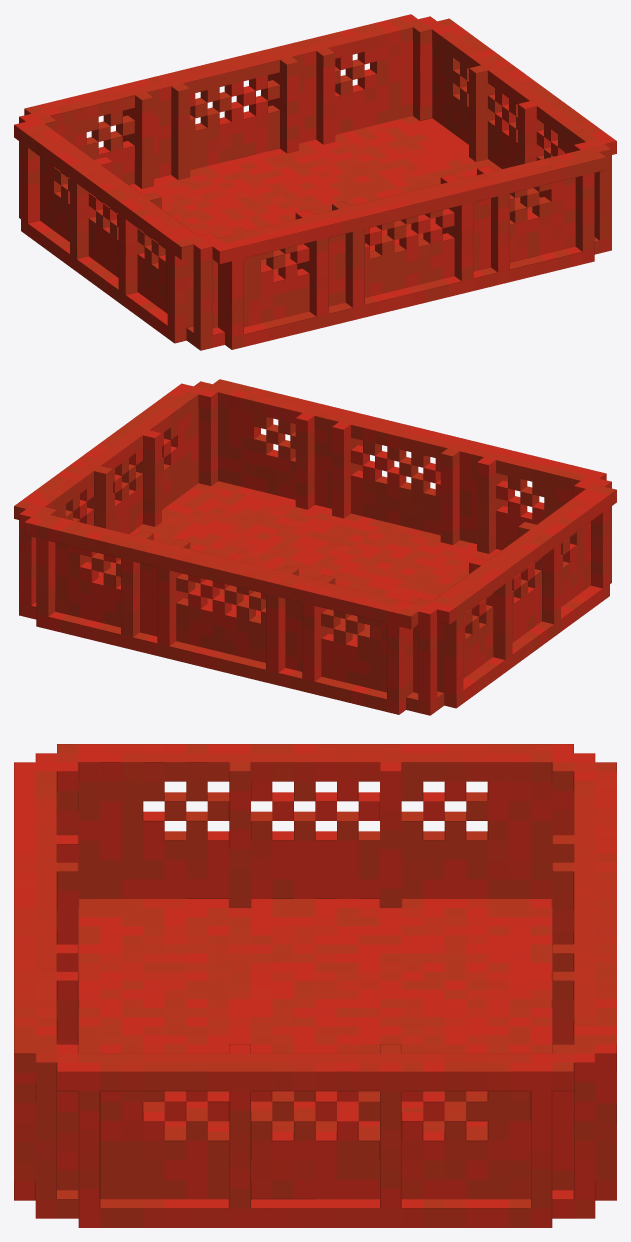
Rendered from canastilla (2).obj.
3 views of the same model, one above another, from view 1: azimuth 30°, elevation 25°; view 2: azimuth 150°, elevation 25°; view 3: azimuth 270°, elevation 25° (orthographic). The views are drawn at different scales.
Parts seen in each view (by area): view 1: canastilla_(2); view 2: canastilla_(2); view 3: canastilla_(2).
Boxes of the visible parts, x1,y1,x2,y2 form: canastilla_(2): (14, 14, 616, 350); canastilla_(2): (14, 379, 616, 715); canastilla_(2): (14, 744, 616, 1227).
Bounding box in the file's own units: 3.6 × 0.8 × 2.8.
1 material, 1 textured.
